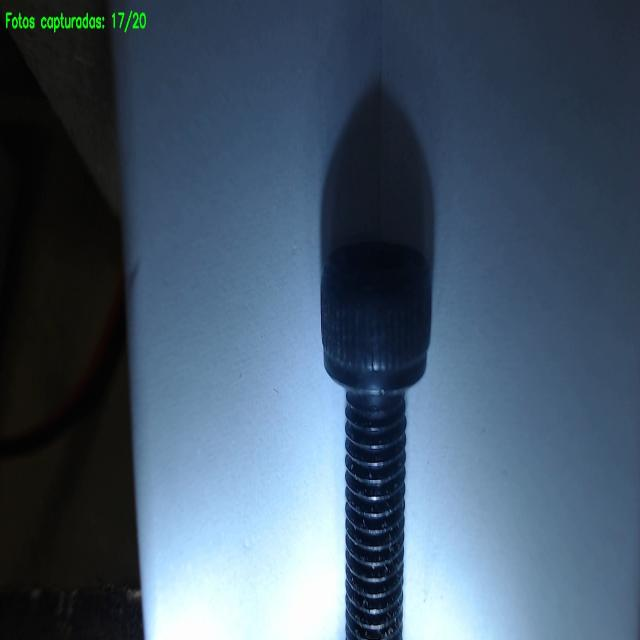vastago: (346, 405, 405, 639)
